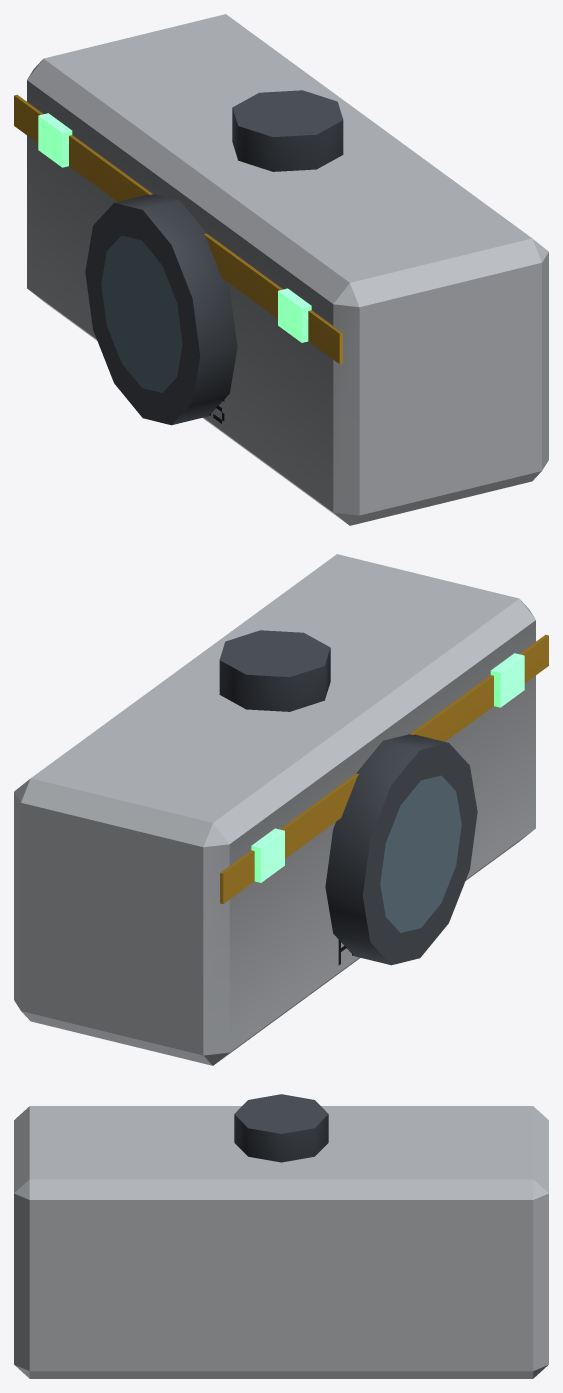
File: transport_port.glb
The picture shows the model from 3 angles, top to bottom: view 1: azimuth 30°, elevation 25°; view 2: azimuth 150°, elevation 25°; view 3: azimuth 270°, elevation 25°; orthographic projection. The views are drawn at different scales.
Visible parts, largest first — view 1: PortTop; view 2: PortTop; view 3: PortTop.
Part boxes in pixels (bbox=[...]): PortTop: bbox=[14, 14, 548, 525]; PortTop: bbox=[14, 554, 548, 1065]; PortTop: bbox=[14, 1094, 548, 1378].
Bounding box in the file's own units: 0.306 × 0.32 × 0.68.
